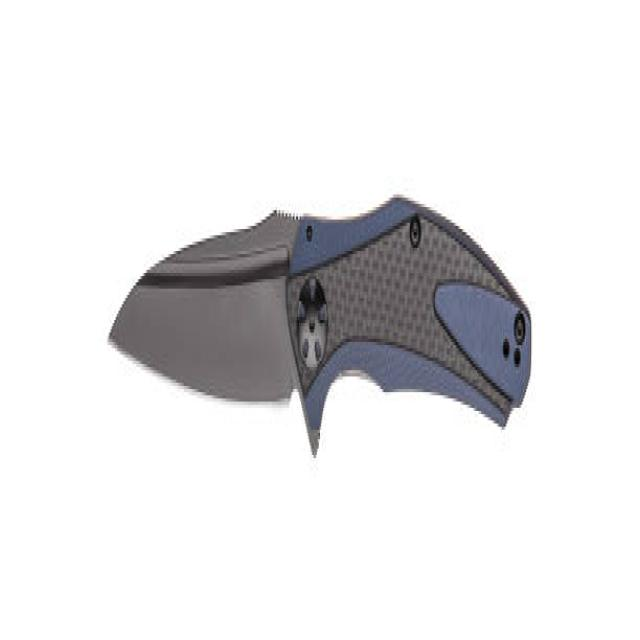knife: (104, 179, 541, 510)
